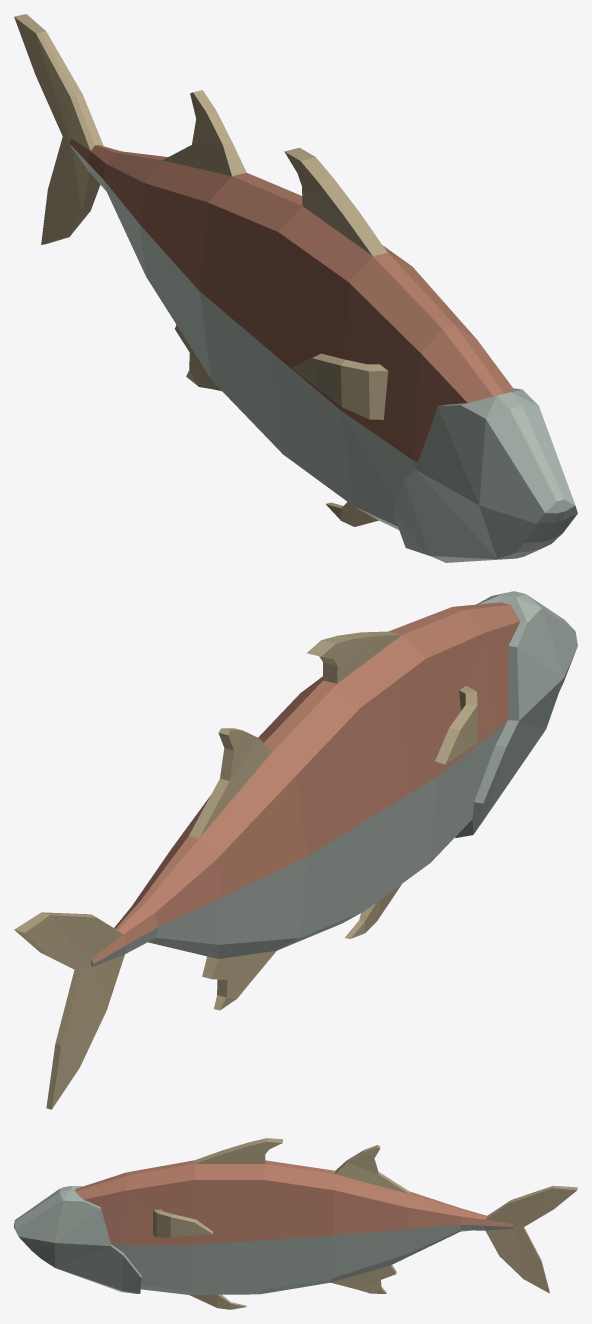
The model's file is fish_minnow.glb.
3 renders of one model, top to bottom at view 1: azimuth 30°, elevation 25°; view 2: azimuth 150°, elevation 25°; view 3: azimuth 270°, elevation 25°, orthographic. The views are drawn at different scales.
Parts seen in each view (by area): view 1: Fish1; view 2: Fish1; view 3: Fish1.
Part boxes in pixels (bbox=[...]): Fish1: bbox=[14, 14, 577, 562]; Fish1: bbox=[14, 591, 577, 1109]; Fish1: bbox=[14, 1138, 577, 1309].
Bounding box in the file's own units: 0.4656 × 1.06 × 3.2.
